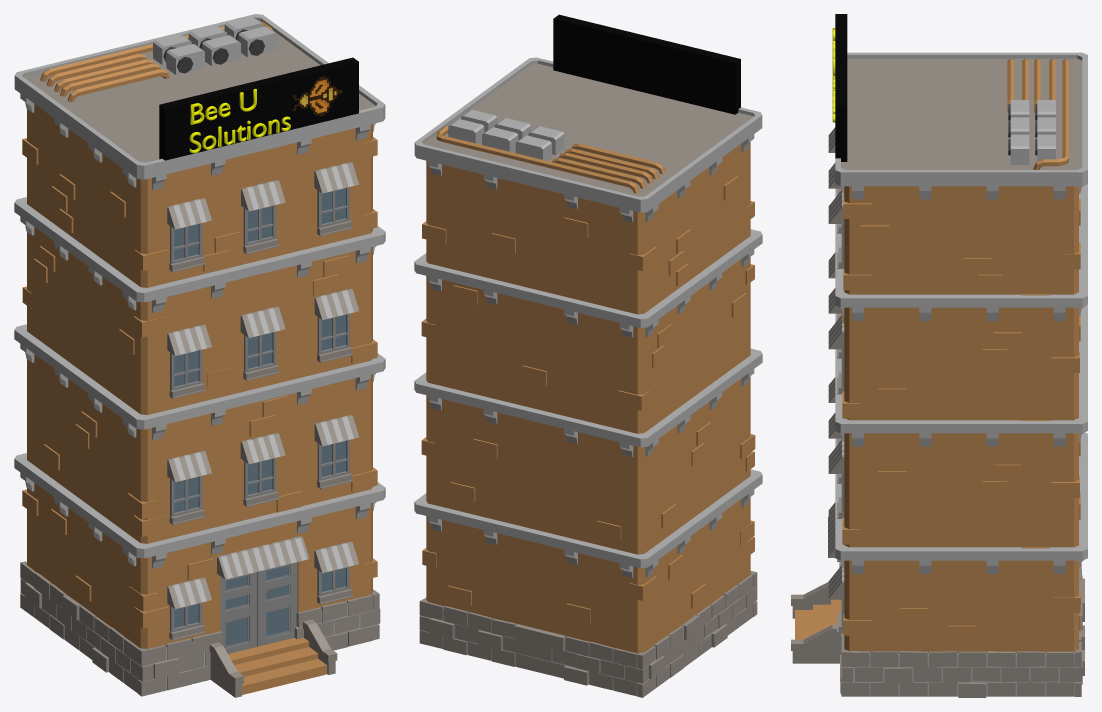
Rendered from BeeU.fbx.
The picture shows the model from 3 angles, left to right: view 1: azimuth 30°, elevation 25°; view 2: azimuth 150°, elevation 25°; view 3: azimuth 270°, elevation 25°; orthographic projection. The views are drawn at different scales.
Parts seen in each view (by area): view 1: 4Story_Mat_Cube.024, Cube.014, Text.010, Screenshot_2023-11-10_185728-removebg-preview; view 2: 4Story_Mat_Cube.024, Cube.014; view 3: 4Story_Mat_Cube.024, Cube.014.
Part boxes in pixels (x1=…): 4Story_Mat_Cube.024: x1=14, y1=14, x2=385, y2=697; Cube.014: x1=159, y1=57, x2=358, y2=160; Text.010: x1=189, y1=88, x2=290, y2=153; Screenshot_2023-11-10_185728-removebg-preview: x1=292, y1=76, x2=341, y2=116; 4Story_Mat_Cube.024: x1=414, y1=57, x2=762, y2=697; Cube.014: x1=553, y1=14, x2=740, y2=114; 4Story_Mat_Cube.024: x1=791, y1=52, x2=1087, y2=697; Cube.014: x1=835, y1=14, x2=847, y2=161.
Bounding box in the file's own units: 566 × 1280 × 592.
Materials: 10 (1 with a texture image).
